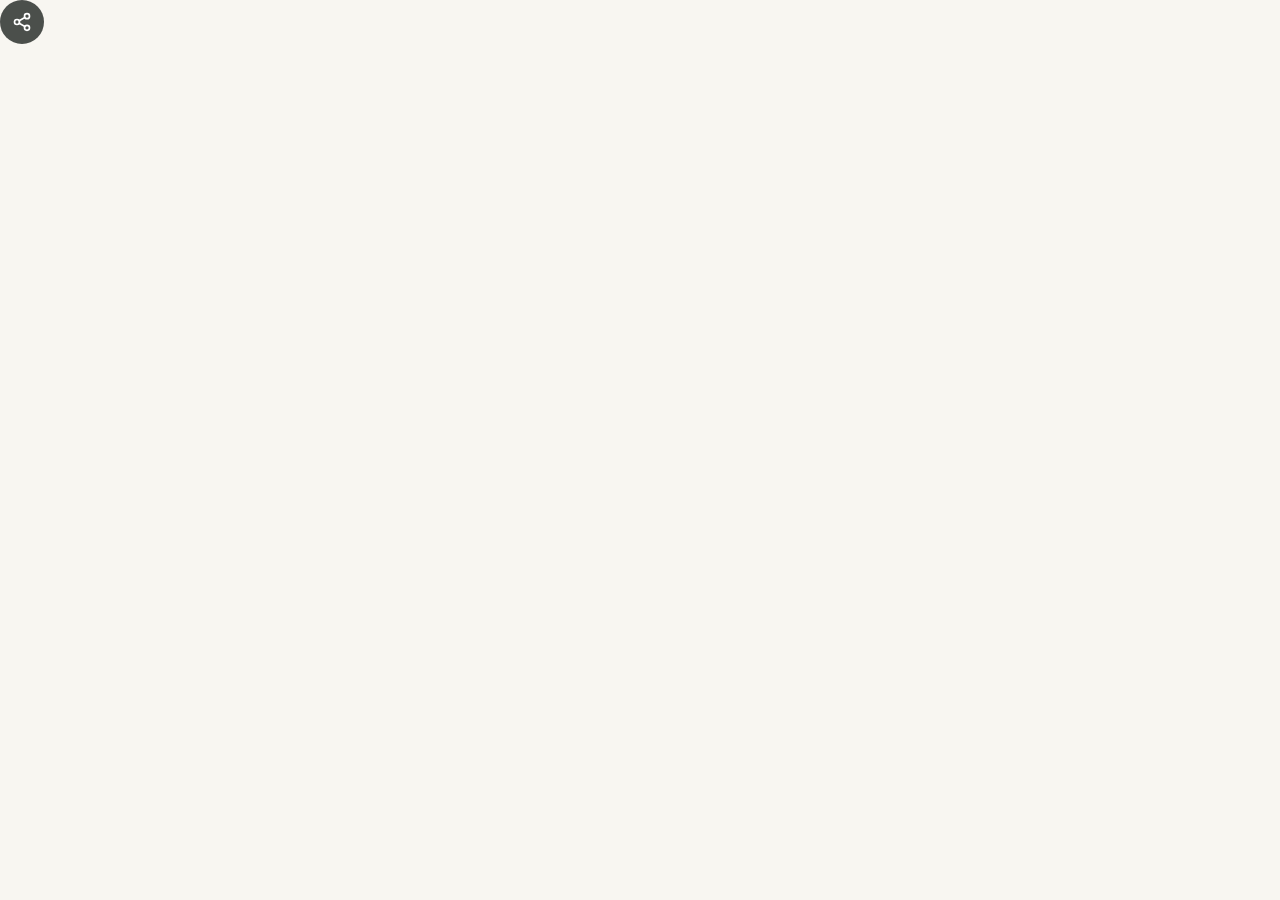
Test case: cover itinerary action › shows a clear fallback when the native share action fails
This screenshot has width=1280, height=900.
Step 1. Click the button named "Share itinerary" → (22, 22), box [0,0,44,44]
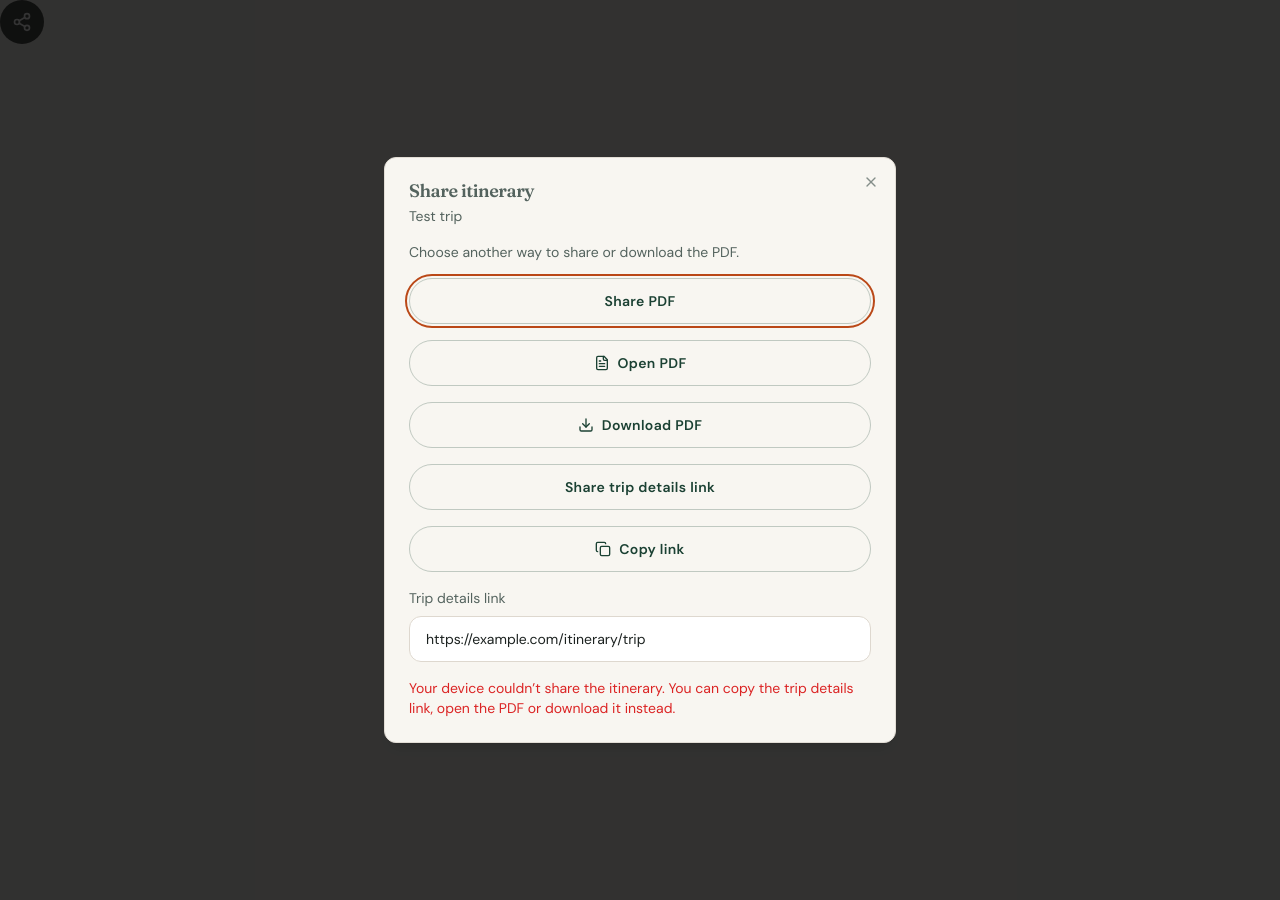
expect the dialog is shown: met, box [384,157,896,743]
expect the text "couldn’t share the itinerary" is shown: met, box [409,679,854,717]
expect the button "Download PDF" is shown: met, box [409,402,871,448]
